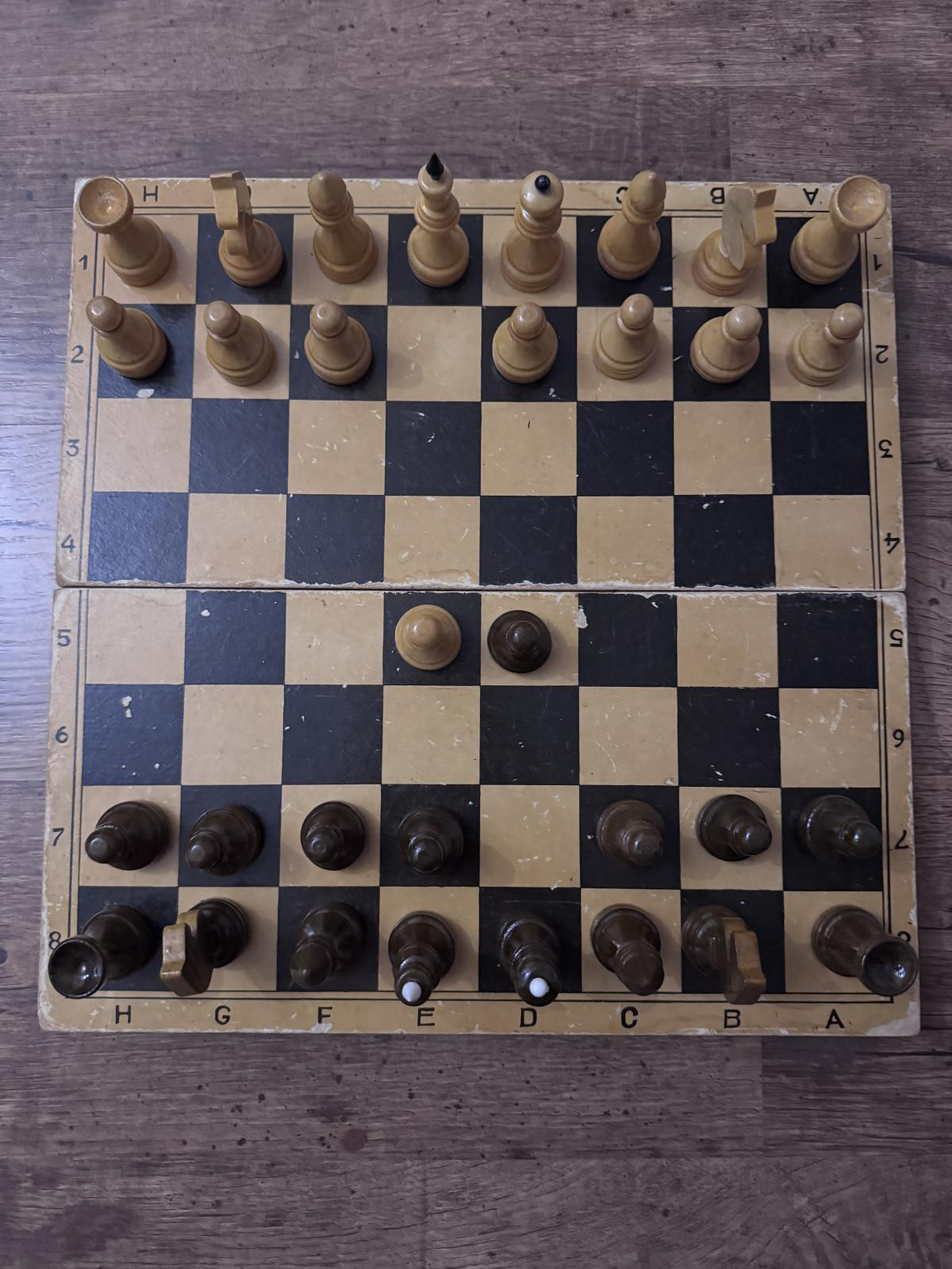Chess-Board: (75, 215, 885, 994)
